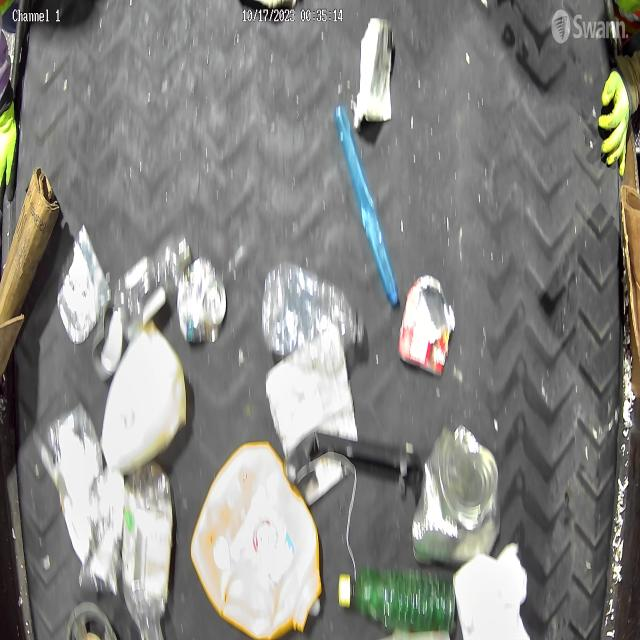can: (412, 426, 499, 566), (400, 275, 456, 377), (178, 255, 228, 349), (92, 303, 124, 382)
milk_jug: (101, 320, 187, 471)
non_white_jug: (191, 442, 324, 638)
plastic_bottle: (261, 263, 366, 361), (111, 234, 191, 347), (122, 463, 173, 640)
